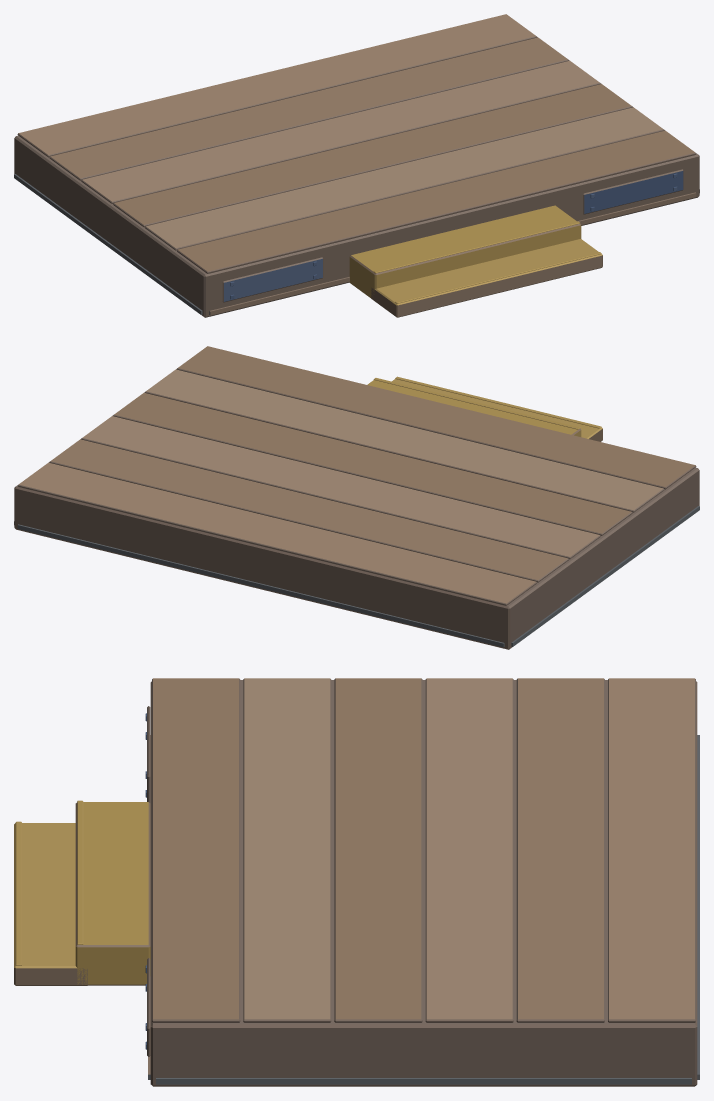
File: 0-20261016-1900-ev031-r06-stage-platform.fbx
The picture shows the model from 3 angles, top to bottom: view 1: azimuth 30°, elevation 25°; view 2: azimuth 150°, elevation 25°; view 3: azimuth 270°, elevation 25°; orthographic projection. The views are drawn at different scales.
Parts seen in each view (by area): view 1: SW_Stage_Platform; view 2: SW_Stage_Platform; view 3: SW_Stage_Platform.
Boxes of the visible parts, left/top/right/bottom form: SW_Stage_Platform: left=14, top=14, right=699, bottom=317; SW_Stage_Platform: left=14, top=346, right=699, bottom=649; SW_Stage_Platform: left=14, top=678, right=699, bottom=1086.
Bounding box in the file's own units: 604 × 52.8 × 502.
